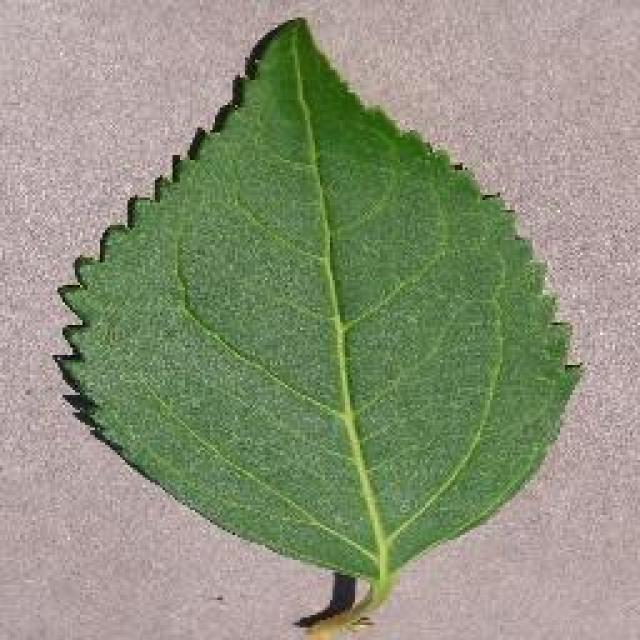Cherry___healthy: (42, 5, 592, 640)
